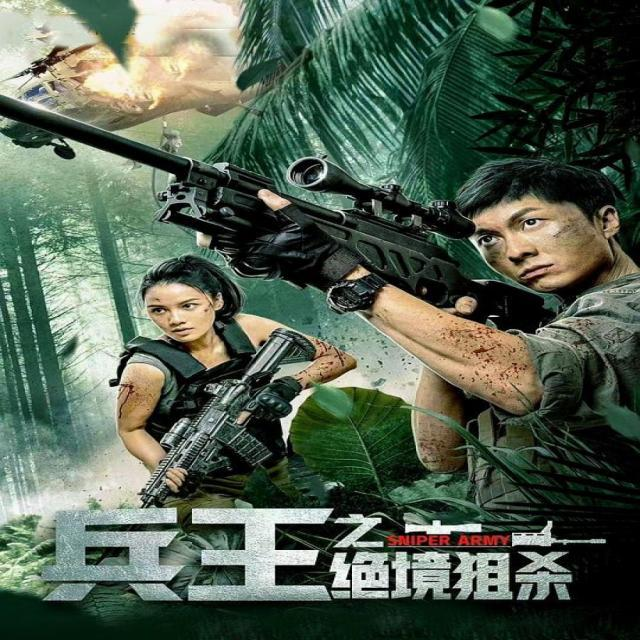rifle: (3, 60, 564, 323), (107, 338, 348, 496)
